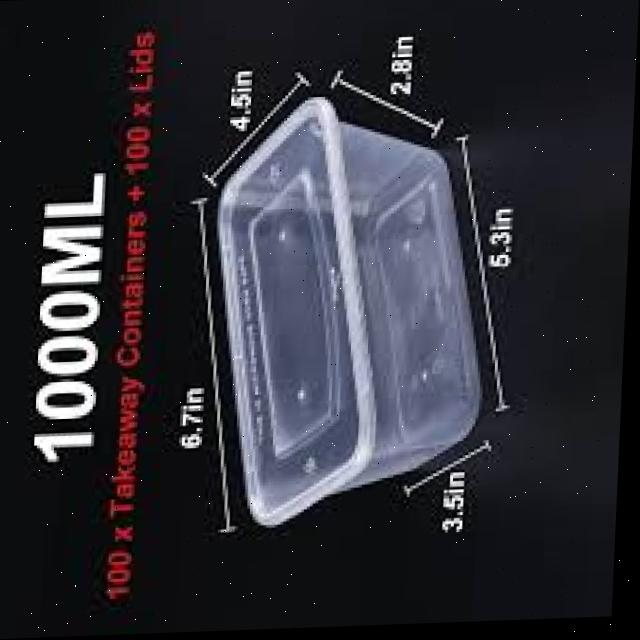disposable: (195, 66, 504, 554)
